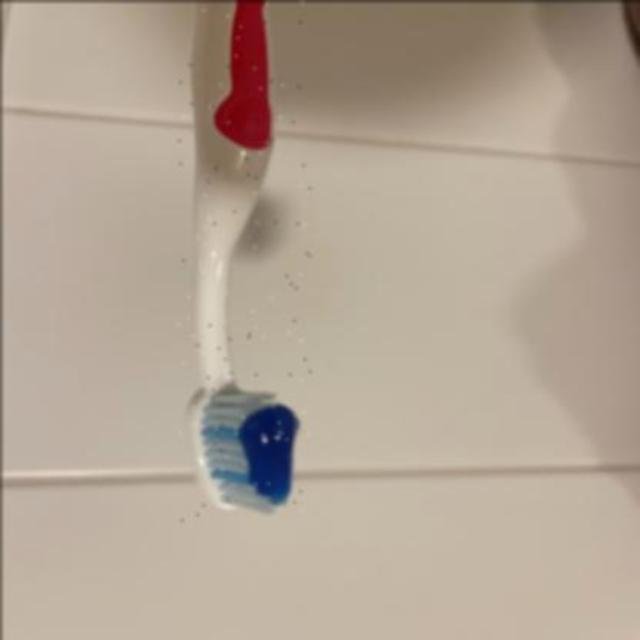toothbrush: (175, 1, 308, 522)
